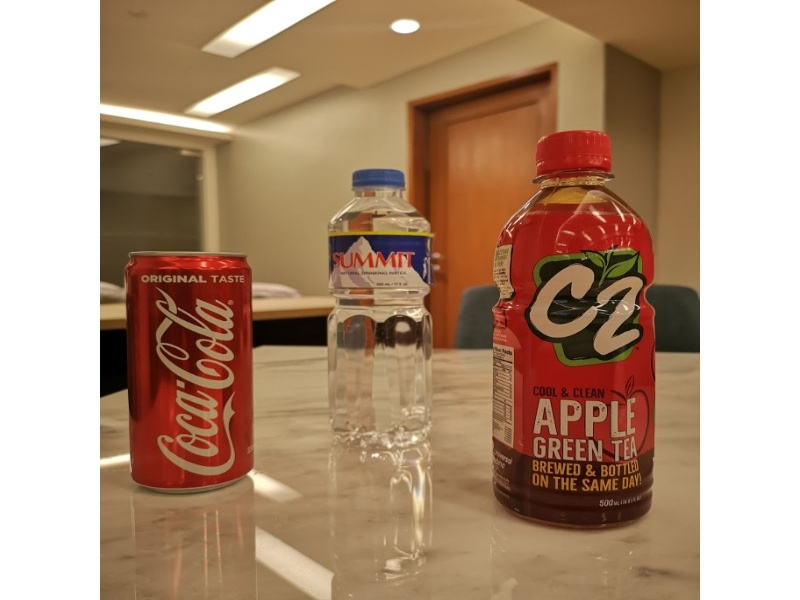PET #1: (490, 126, 660, 532), (328, 168, 436, 455)
